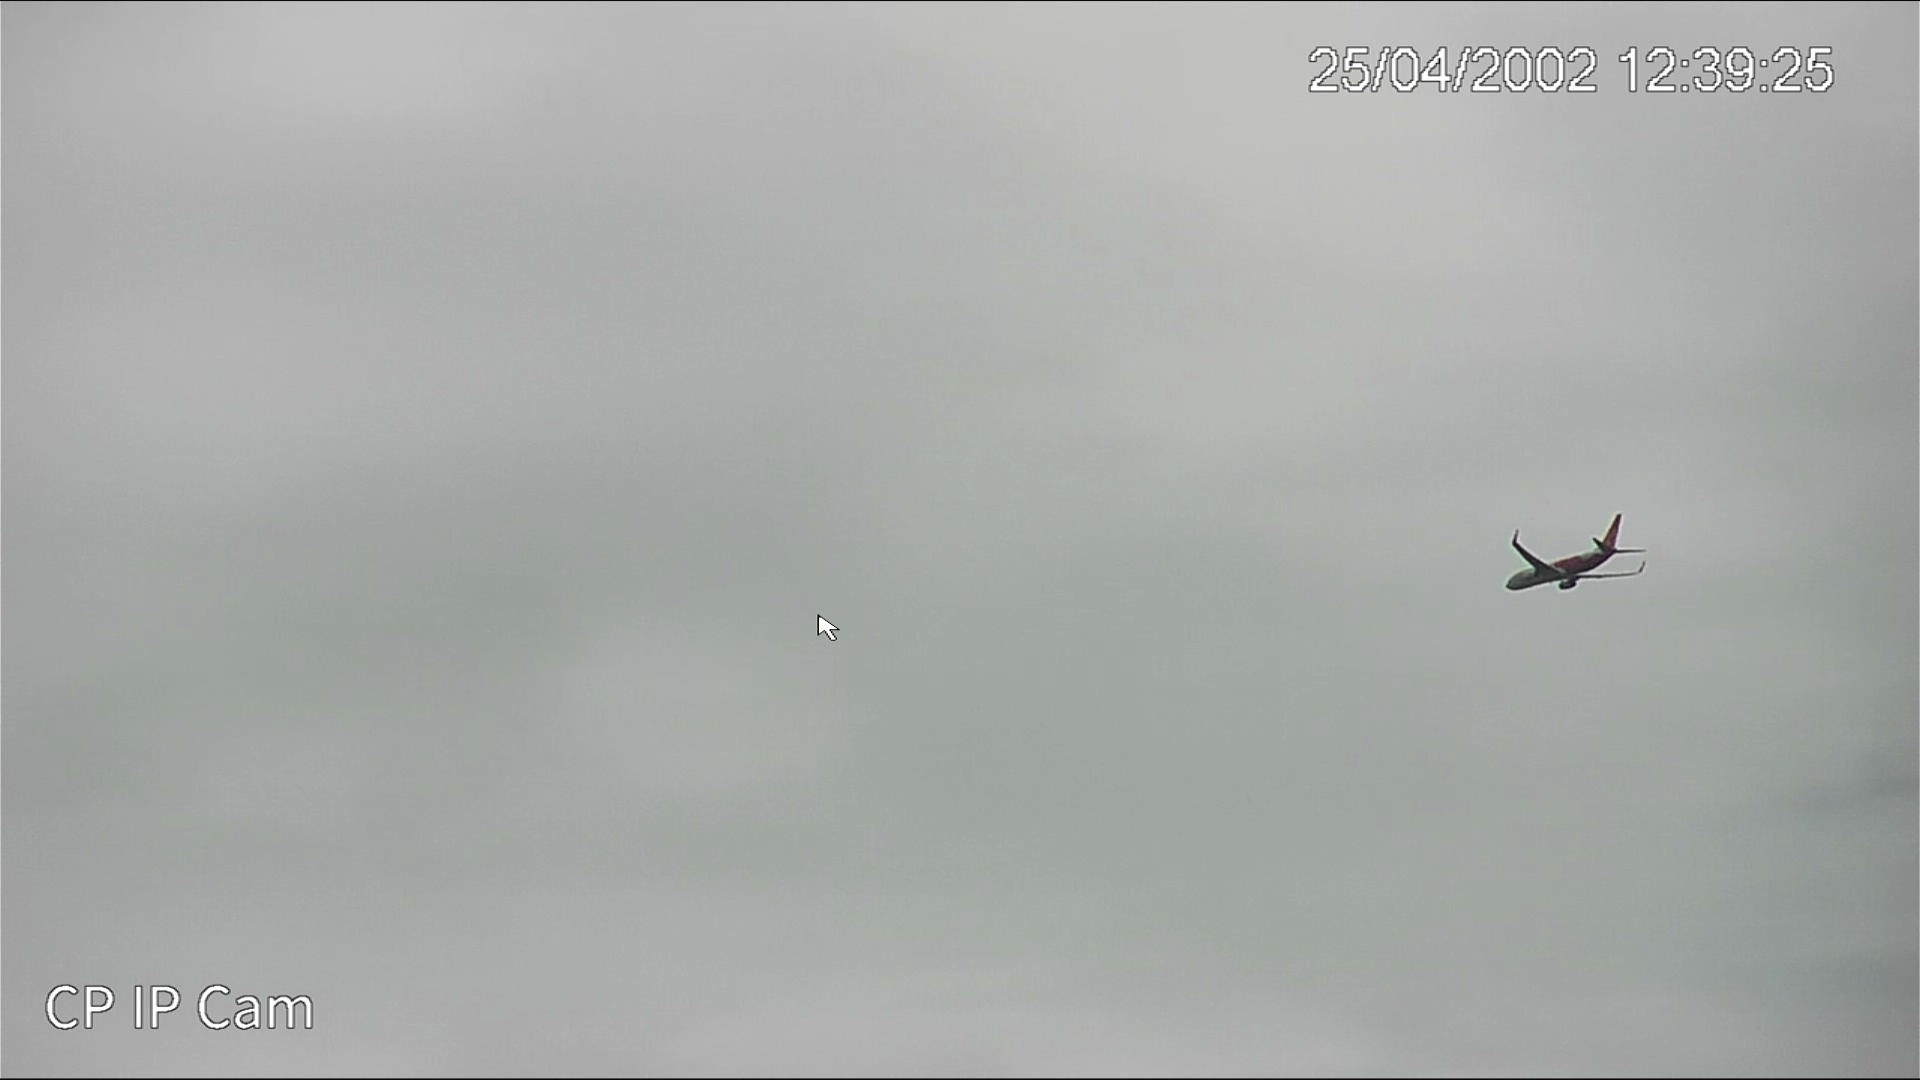SU_30: (1490, 506, 1662, 599)
